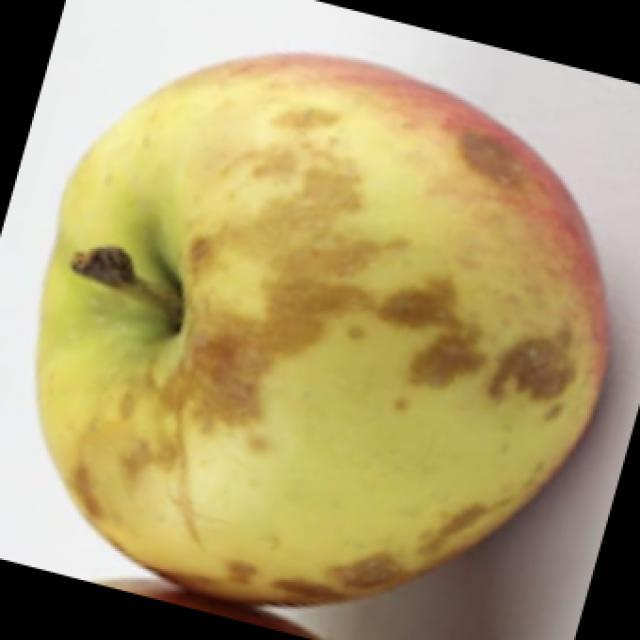Rotten: (37, 50, 630, 640)
